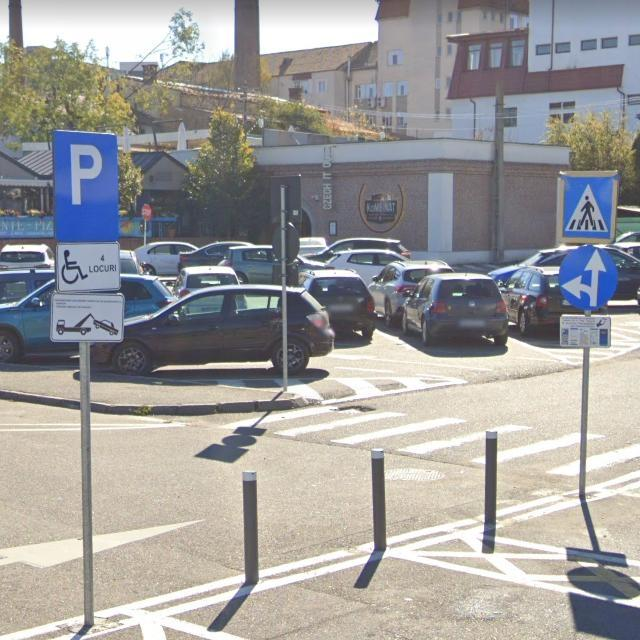info_crosswalk: (555, 167, 621, 242)
